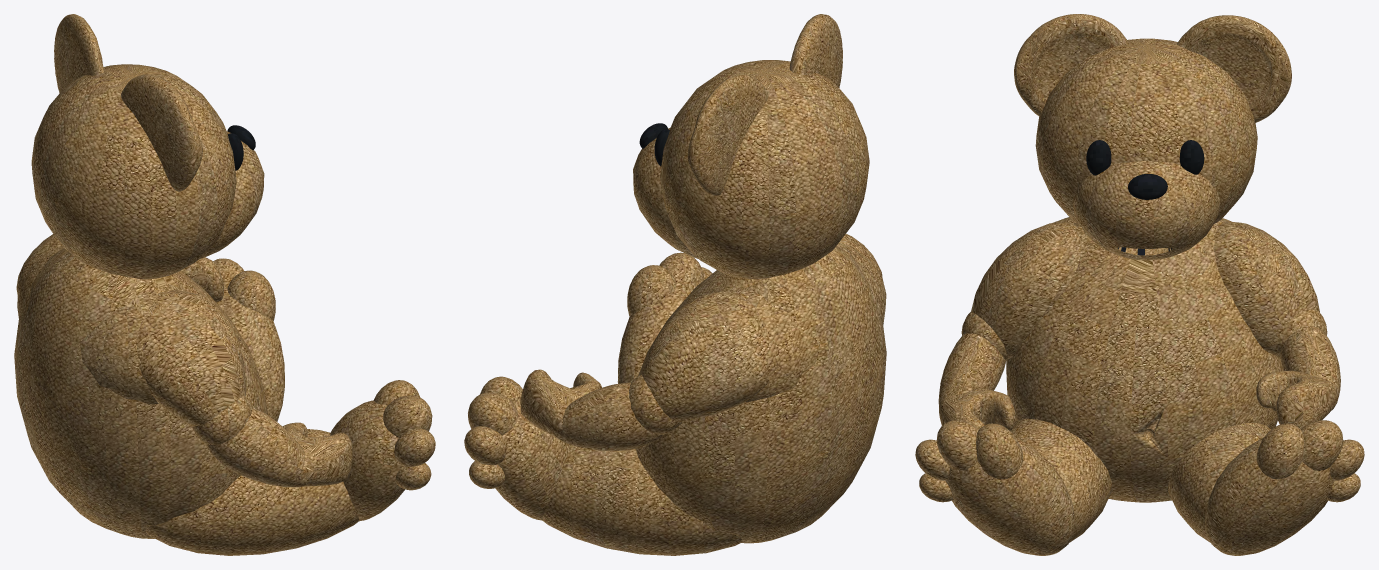
Rendered from PELUCHE-oso.glb.
3 renders of one model, left to right at view 1: azimuth 30°, elevation 25°; view 2: azimuth 150°, elevation 25°; view 3: azimuth 270°, elevation 25°, orthographic. The views are drawn at different scales.
Visible parts, largest first — view 1: SketchUp, SketchUp.012; view 2: SketchUp, SketchUp.012; view 3: SketchUp, SketchUp.012.
Part boxes in pixels (x1,y1,x2,y2): SketchUp: (14, 14, 435, 555); SketchUp.012: (227, 125, 255, 170); SketchUp: (464, 14, 886, 555); SketchUp.012: (639, 123, 669, 166); SketchUp: (915, 14, 1364, 555); SketchUp.012: (1086, 140, 1204, 255).
Bounding box in the file's own units: 0.2635 × 0.3986 × 0.3427.
2 materials, 2 textured.
